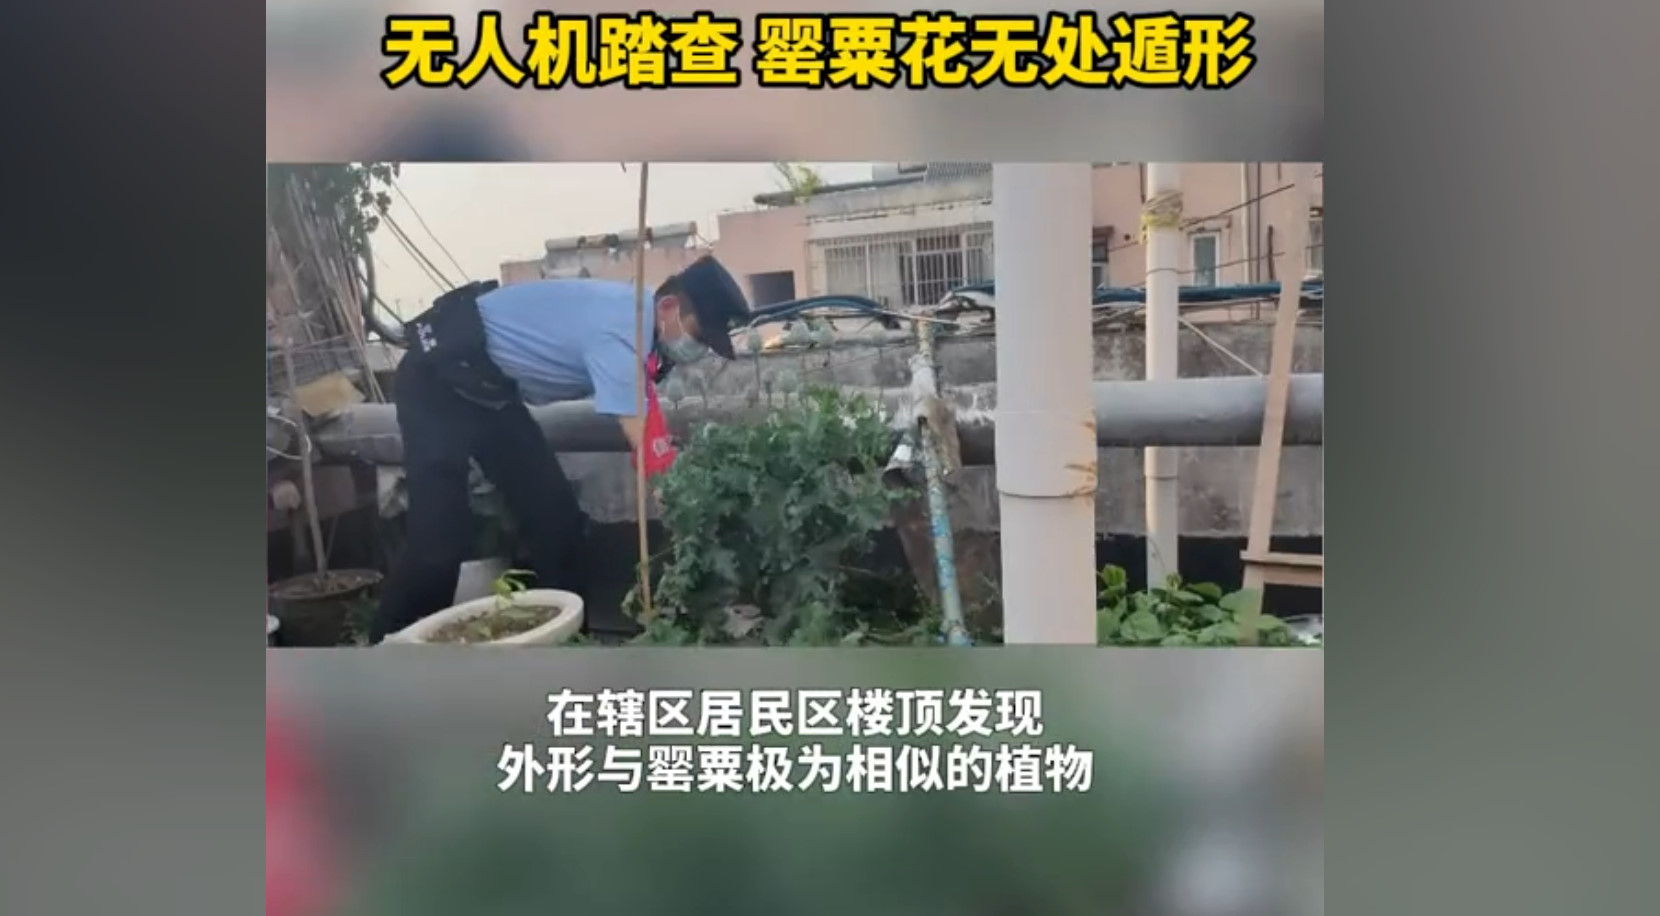Poppy: (648, 322, 913, 638)
